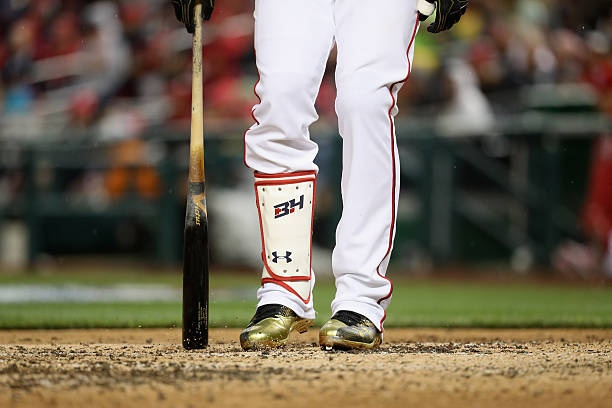bita: (177, 1, 209, 348)
